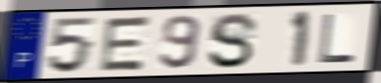1: (287, 9, 311, 70)
5: (46, 16, 100, 75)
9: (157, 14, 201, 71)
E: (97, 14, 155, 73)
L: (316, 12, 357, 64)
S: (206, 12, 260, 71)
